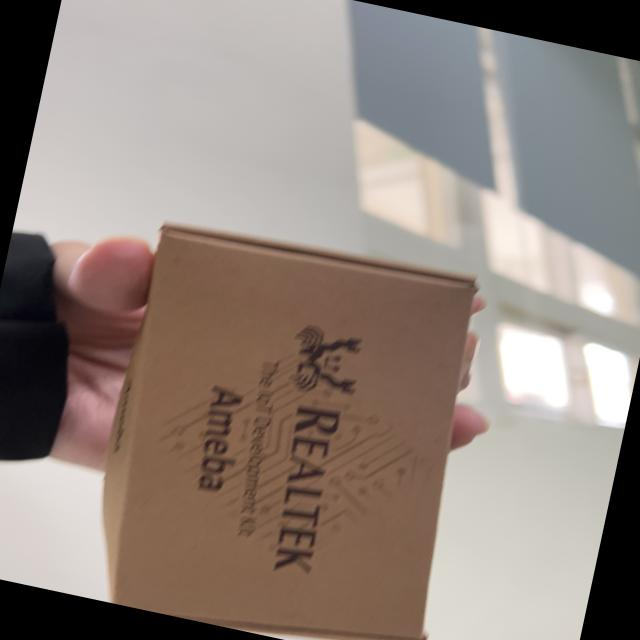box: (29, 198, 549, 640)
